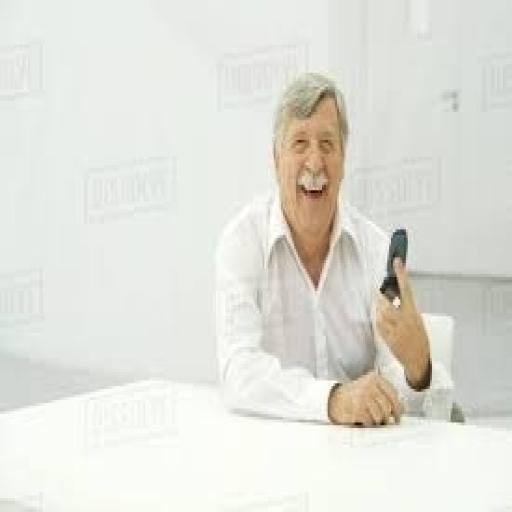laughing: (206, 62, 452, 434)
